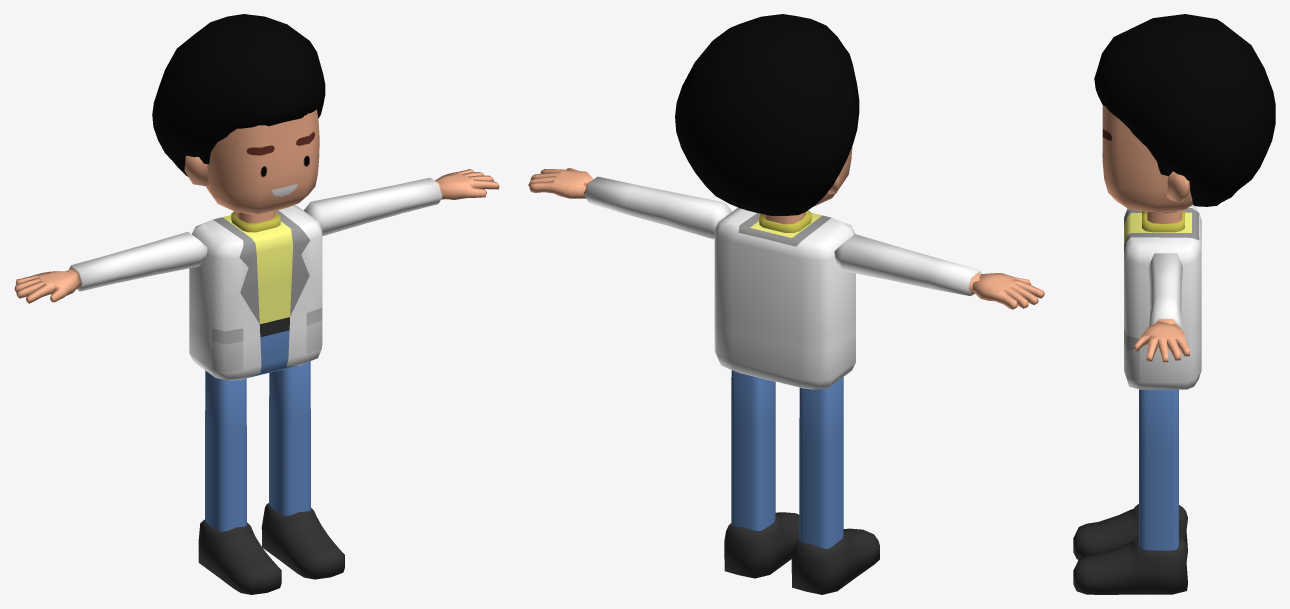
Rendered from NPC_White01_BlackHair01.gltf.
3 renders of one model, left to right at view 1: azimuth 30°, elevation 25°; view 2: azimuth 150°, elevation 25°; view 3: azimuth 270°, elevation 25°, orthographic. The views are drawn at different scales.
Visible parts, largest first — view 1: NPC_Corpo_White1_BlackHair.001; view 2: NPC_Corpo_White1_BlackHair.001; view 3: NPC_Corpo_White1_BlackHair.001.
Part boxes in pixels (x1,y1,x2,y2): NPC_Corpo_White1_BlackHair.001: (14,14,499,594); NPC_Corpo_White1_BlackHair.001: (528,14,1044,594); NPC_Corpo_White1_BlackHair.001: (1073,14,1275,594).
Bounding box in the file's own units: 2.31 × 2.41 × 0.8168.
1 material, 1 textured.
